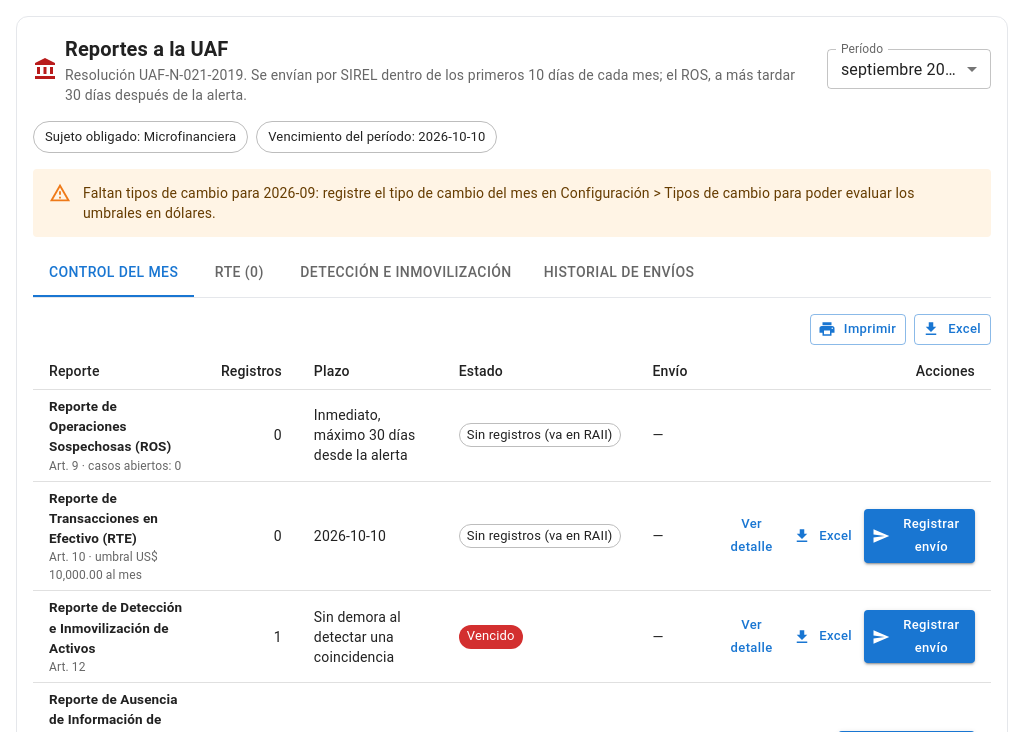
Scenario: Reportes UAF › pestaña RTE muestra los clientes sin tipo de cambio para que no se pierdan
Click the tab "RTE (0)". click: (239, 273)
box: x1=194 y1=249 x2=284 y2=297
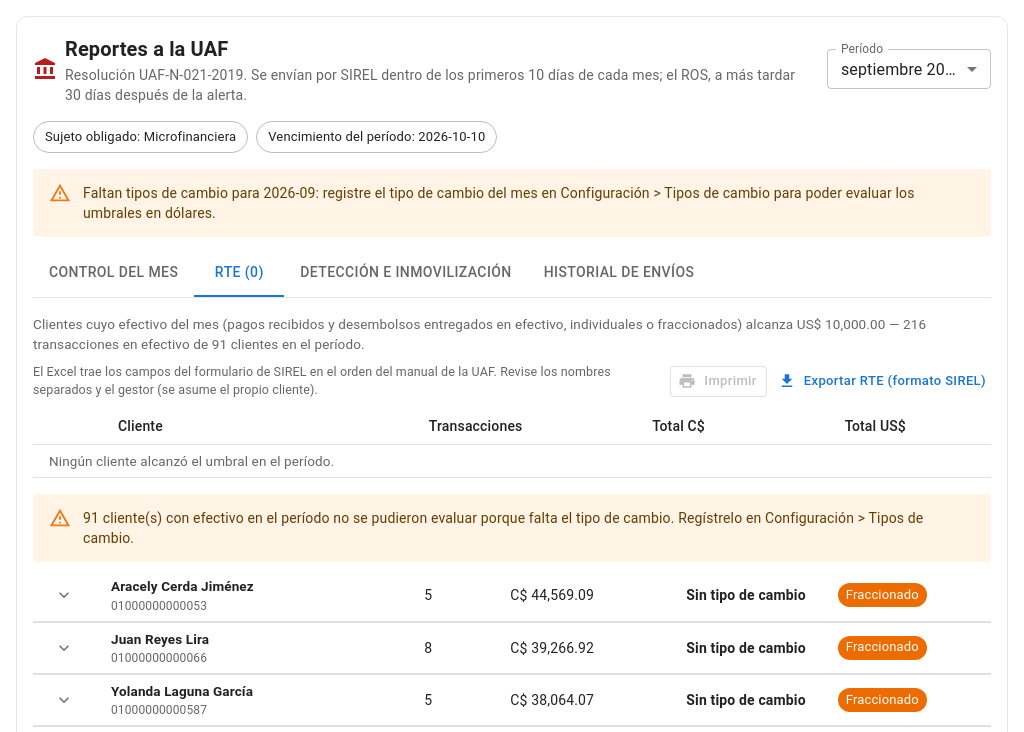
Result: the text "no se pudieron evaluar porque falta el tipo de cambio" is shown at x1=83 y1=510 x2=923 y2=546
Result: the text "Aracely Cerda Jiménez" is shown at x1=111 y1=578 x2=254 y2=594
